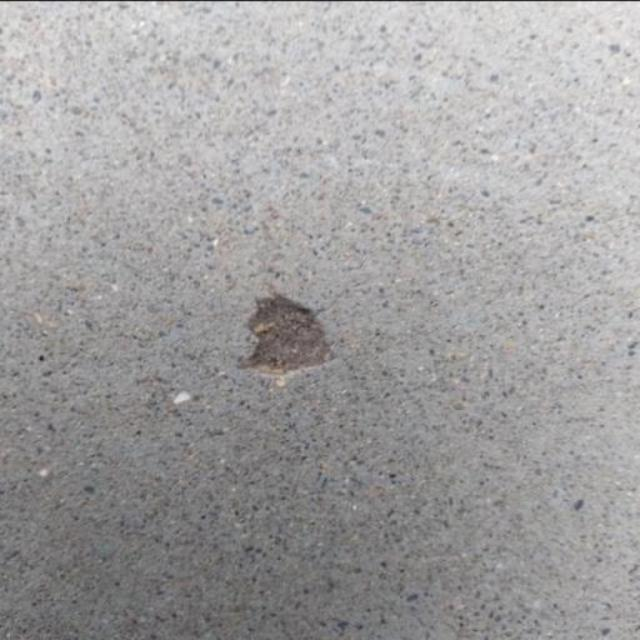D10: (242, 294, 337, 377)
